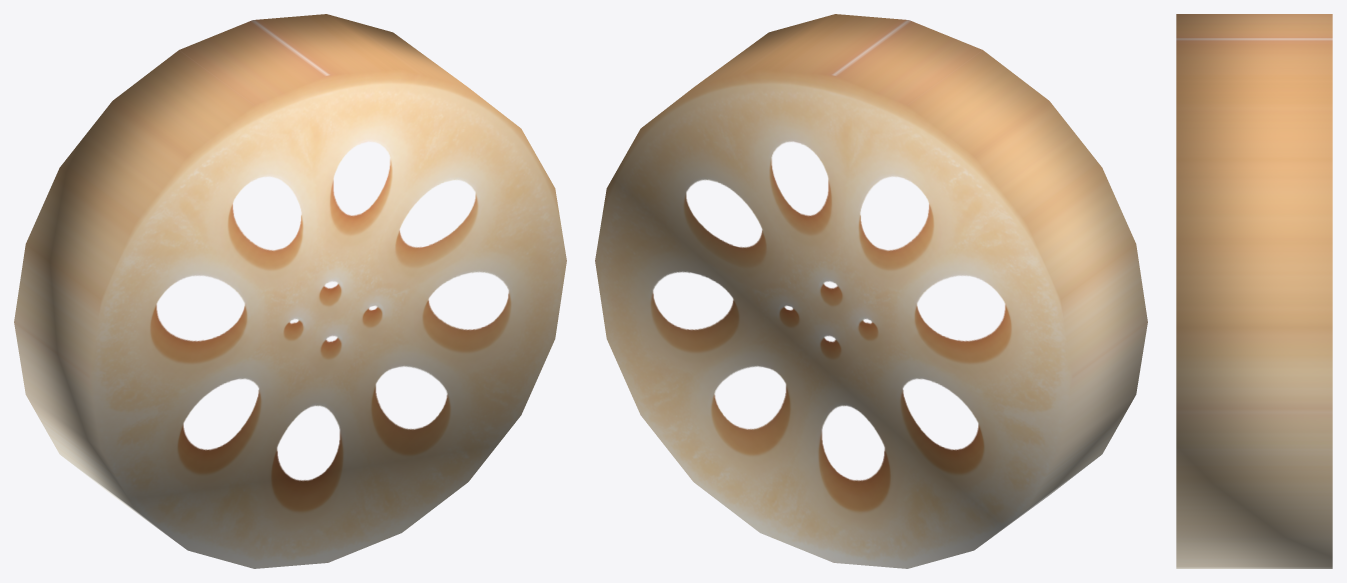
The model's file is lotus-root.glb.
3 renders of one model, left to right at view 1: azimuth 30°, elevation 25°; view 2: azimuth 150°, elevation 25°; view 3: azimuth 270°, elevation 25°, orthographic. The views are drawn at different scales.
Parts seen in each view (by area): view 1: lotus-root; view 2: lotus-root; view 3: lotus-root.
Part boxes in pixels (x1,y1,x2,y2): lotus-root: (14, 14, 566, 568); lotus-root: (595, 14, 1147, 568); lotus-root: (1176, 14, 1332, 568).
Bounding box in the file's own units: 0.95 × 0.9271 × 0.2596.
1 material, 1 textured.
